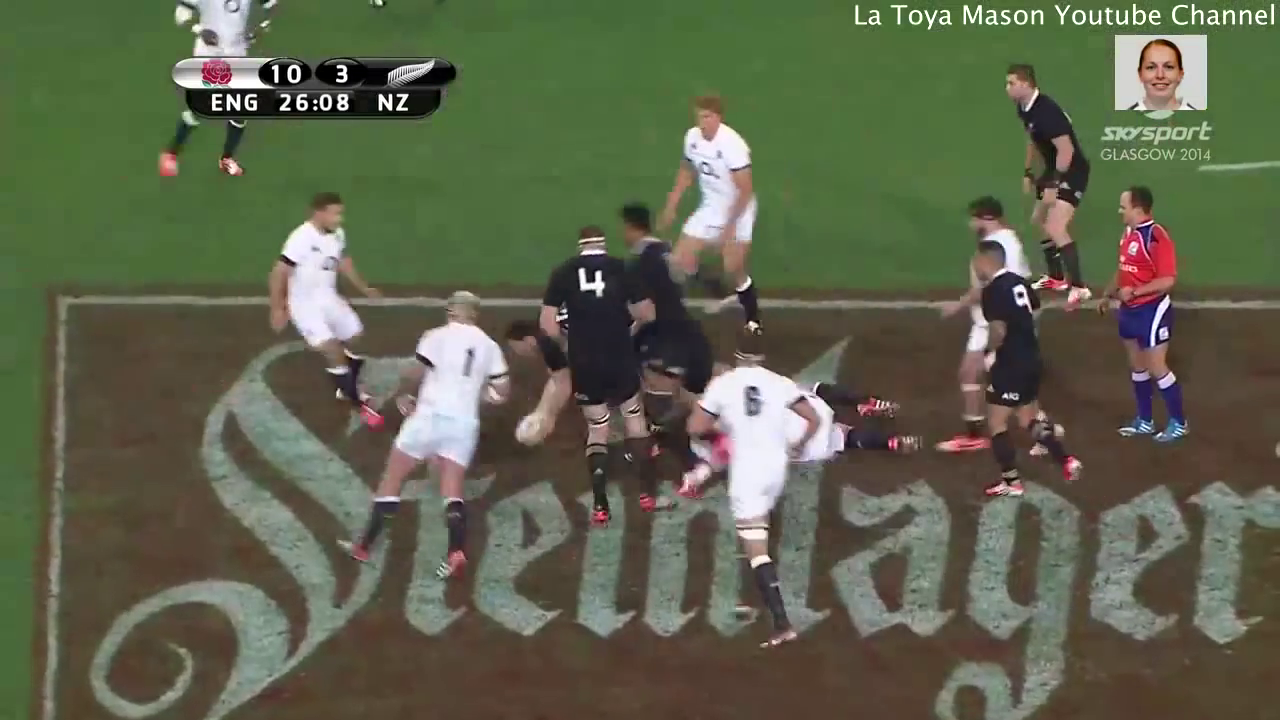ball: (505, 403, 560, 456)
player: (344, 284, 514, 589), (536, 217, 659, 516), (693, 330, 805, 648), (963, 241, 1087, 512), (257, 189, 388, 436), (653, 93, 765, 345), (1001, 67, 1104, 316), (1100, 183, 1194, 448), (946, 192, 1030, 461), (609, 200, 692, 423)
